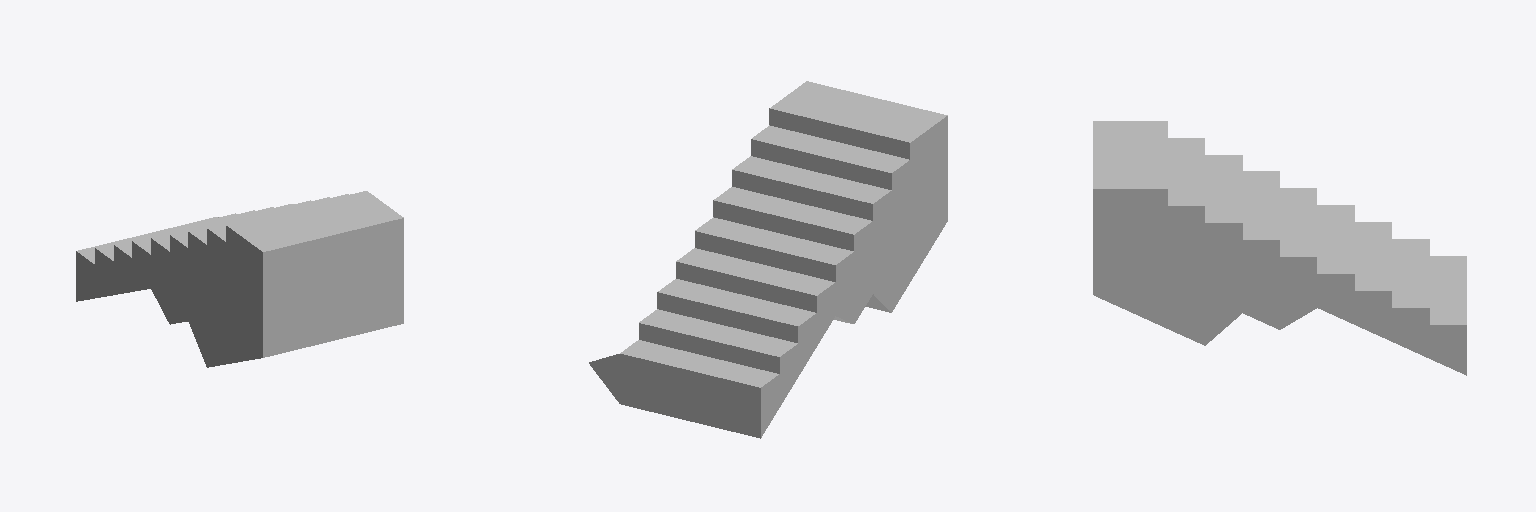
File: Stairs (92).obj
3 renders of one model, left to right at view 1: azimuth 30°, elevation 25°; view 2: azimuth 150°, elevation 25°; view 3: azimuth 270°, elevation 25°, orthographic.
Parts seen in each view (by area): view 1: Stairs (92); view 2: Stairs (92); view 3: Stairs (92).
Part boxes in pixels (x1,y1,x2,y2): Stairs (92): (76,191,403,367); Stairs (92): (589,81,947,438); Stairs (92): (1093,121,1466,375).
Bounding box in the file's own units: 2.67 × 2.75 × 5.